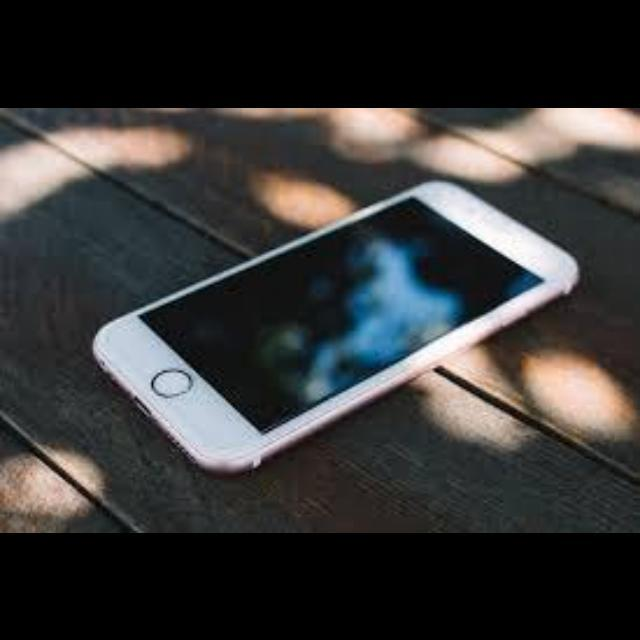Phone: (91, 182, 579, 474)
